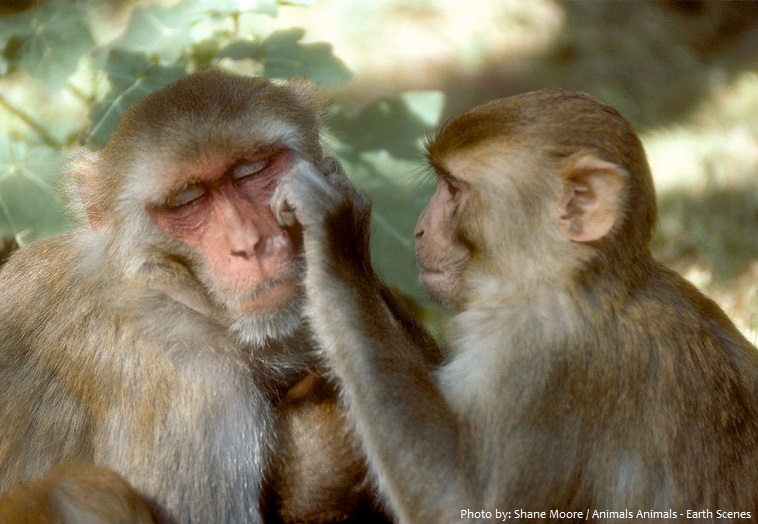monkey: (273, 61, 758, 524), (1, 59, 363, 524)
